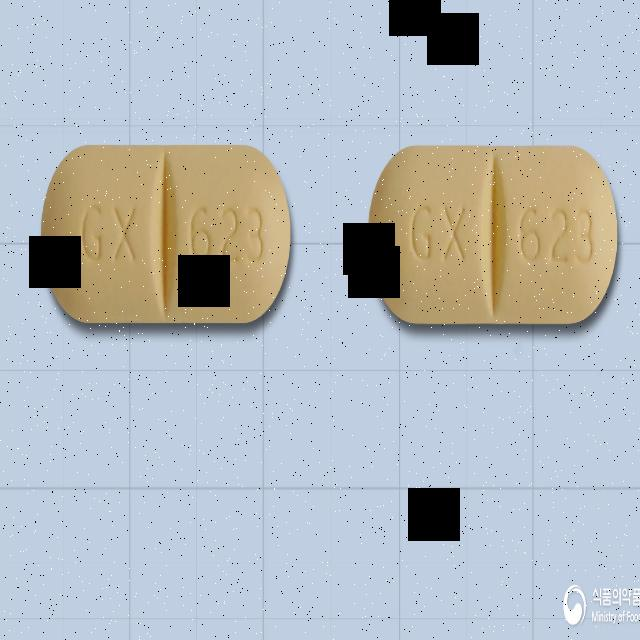Ziagen Tab: (40, 144, 292, 326), (366, 147, 620, 326)
